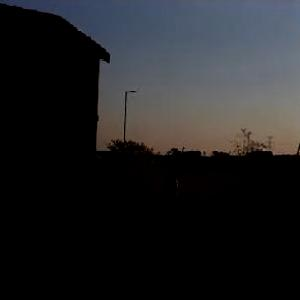follow: (137, 167, 196, 299)
